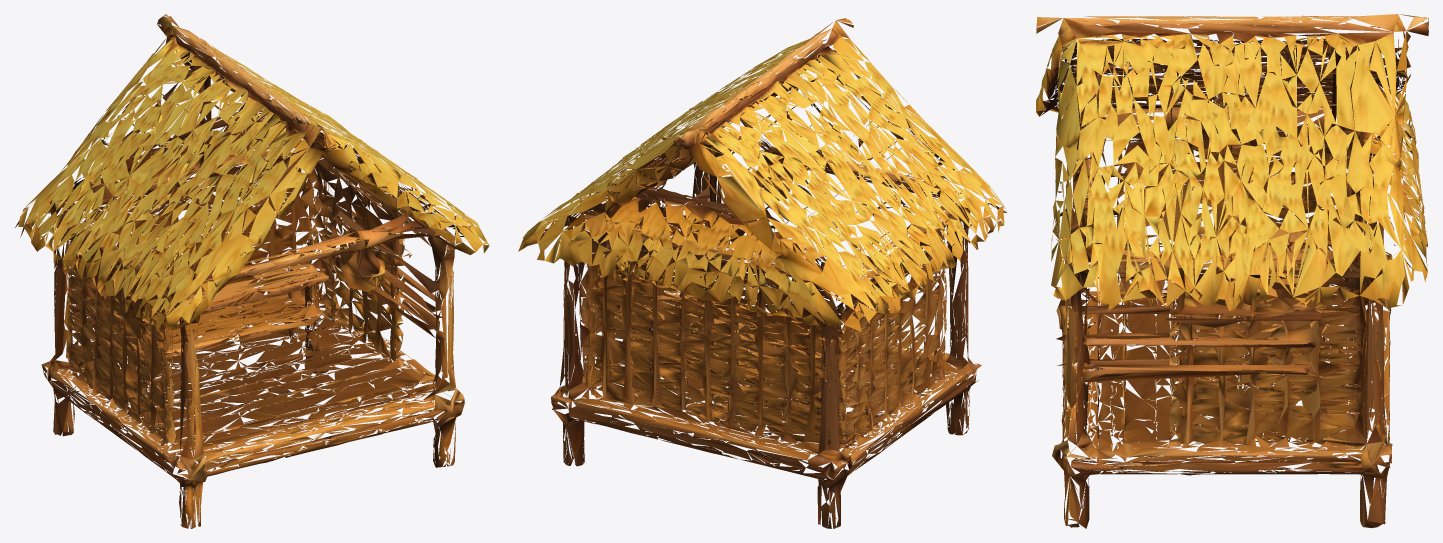
Rendered from hut.glb.
3 renders of one model, left to right at view 1: azimuth 30°, elevation 25°; view 2: azimuth 150°, elevation 25°; view 3: azimuth 270°, elevation 25°, orthographic. The views are drawn at different scales.
Visible parts, largest first — view 1: hut; view 2: hut; view 3: hut.
Part boxes in pixels (box(x1,y1,x2,y2)): hut: box(15, 14, 489, 528); hut: box(518, 18, 1007, 528); hut: box(1036, 14, 1428, 528).
Size of the model in its own units: 0.9607 by 0.9789 by 0.7999.
1 material, 1 textured.
